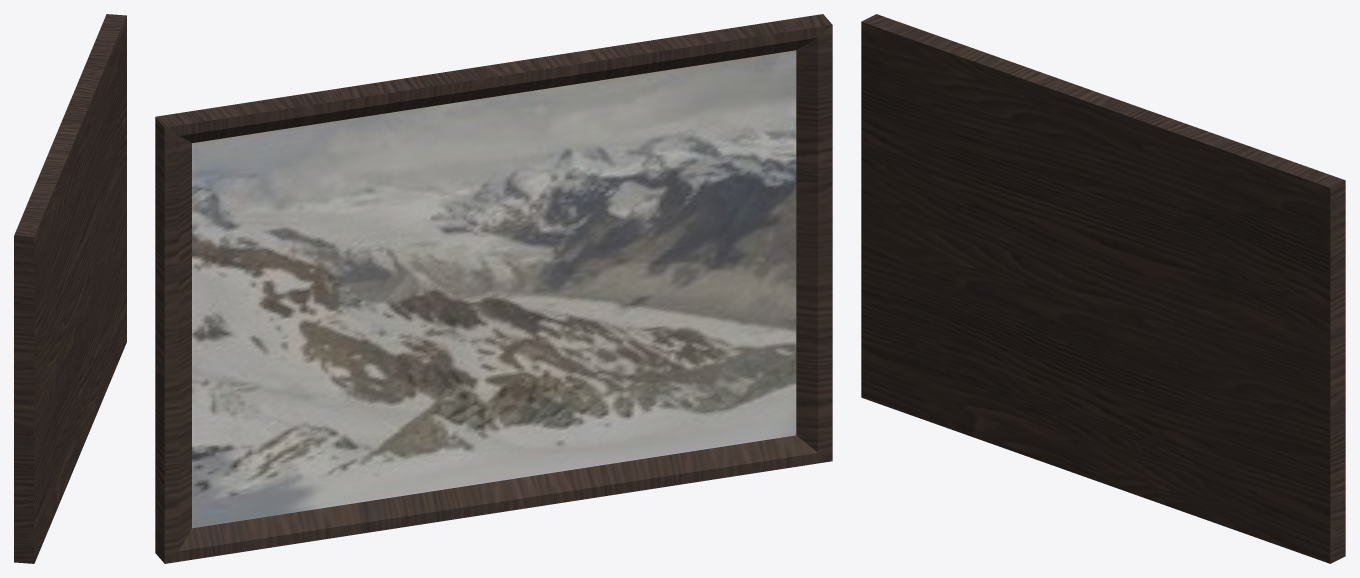
The picture shows the model from 3 angles, left to right: view 1: azimuth 30°, elevation 25°; view 2: azimuth 150°, elevation 25°; view 3: azimuth 270°, elevation 25°; orthographic projection. The views are drawn at different scales.
Visible parts, largest first — view 1: Paintings_03001_Wood_02002_0; view 2: Paintings_03001_Paintings_0, Paintings_03001_Wood_02002_0; view 3: Paintings_03001_Wood_02002_0.
Boxes of the visible parts, <box> form: Paintings_03001_Wood_02002_0: <box>14,14,126,563</box>; Paintings_03001_Paintings_0: <box>192,50,796,528</box>; Paintings_03001_Wood_02002_0: <box>155,14,832,563</box>; Paintings_03001_Wood_02002_0: <box>861,14,1345,563</box>.
Bounding box in the file's own units: 0.8775 × 0.884 × 1.03.
2 materials, 2 textured.
